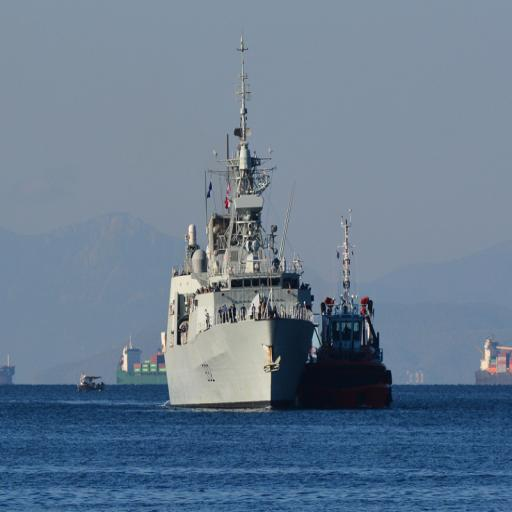Fragata: (159, 19, 321, 416)
